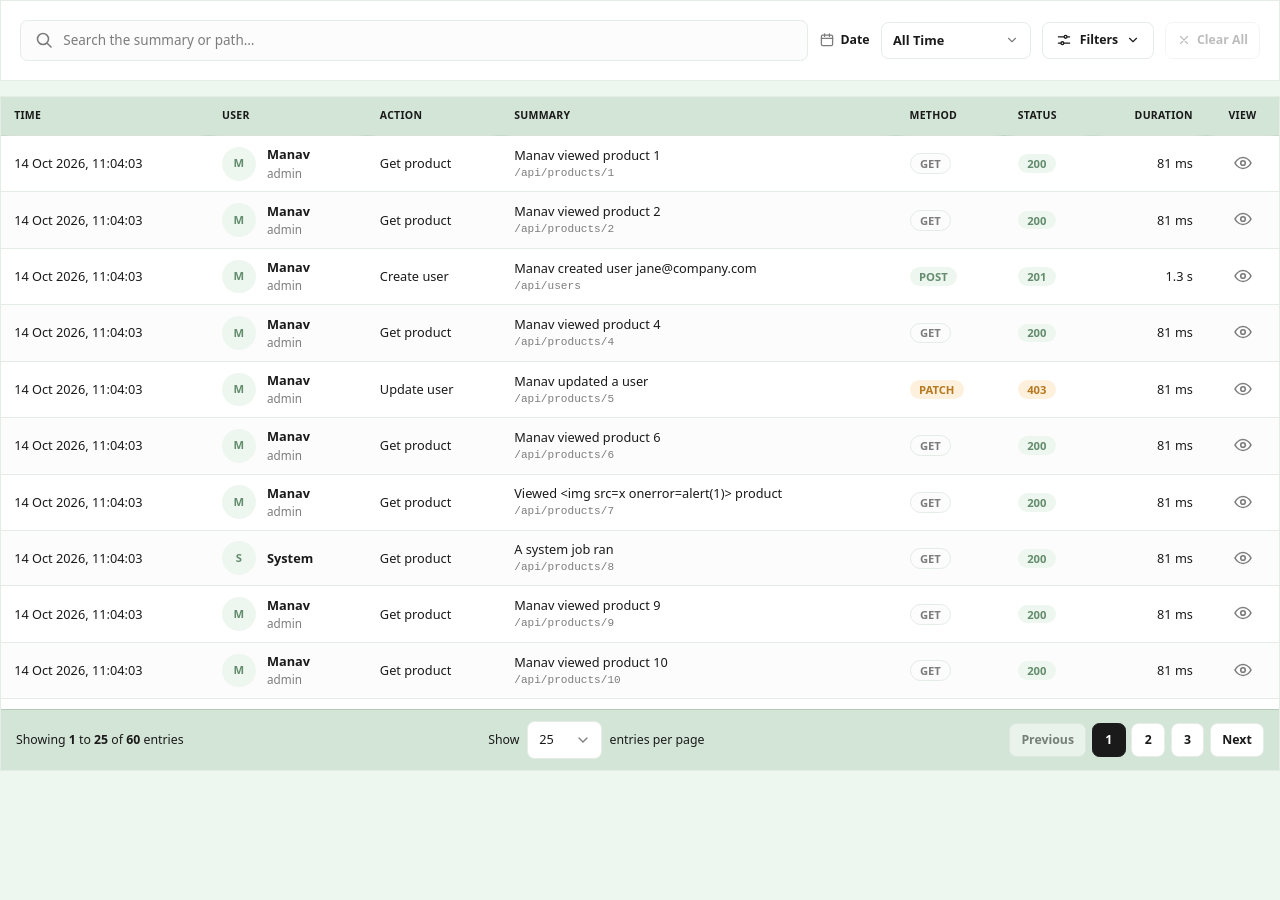
ActivityPage › list › pages with the shared pagination, and re-visits pages from the cache
Expected: the text "Manav viewed product 1" is shown, [514,146,660,164]
Click the button named "Page 2" at {"x": 1148, "y": 740}, box [1131,723,1165,757]
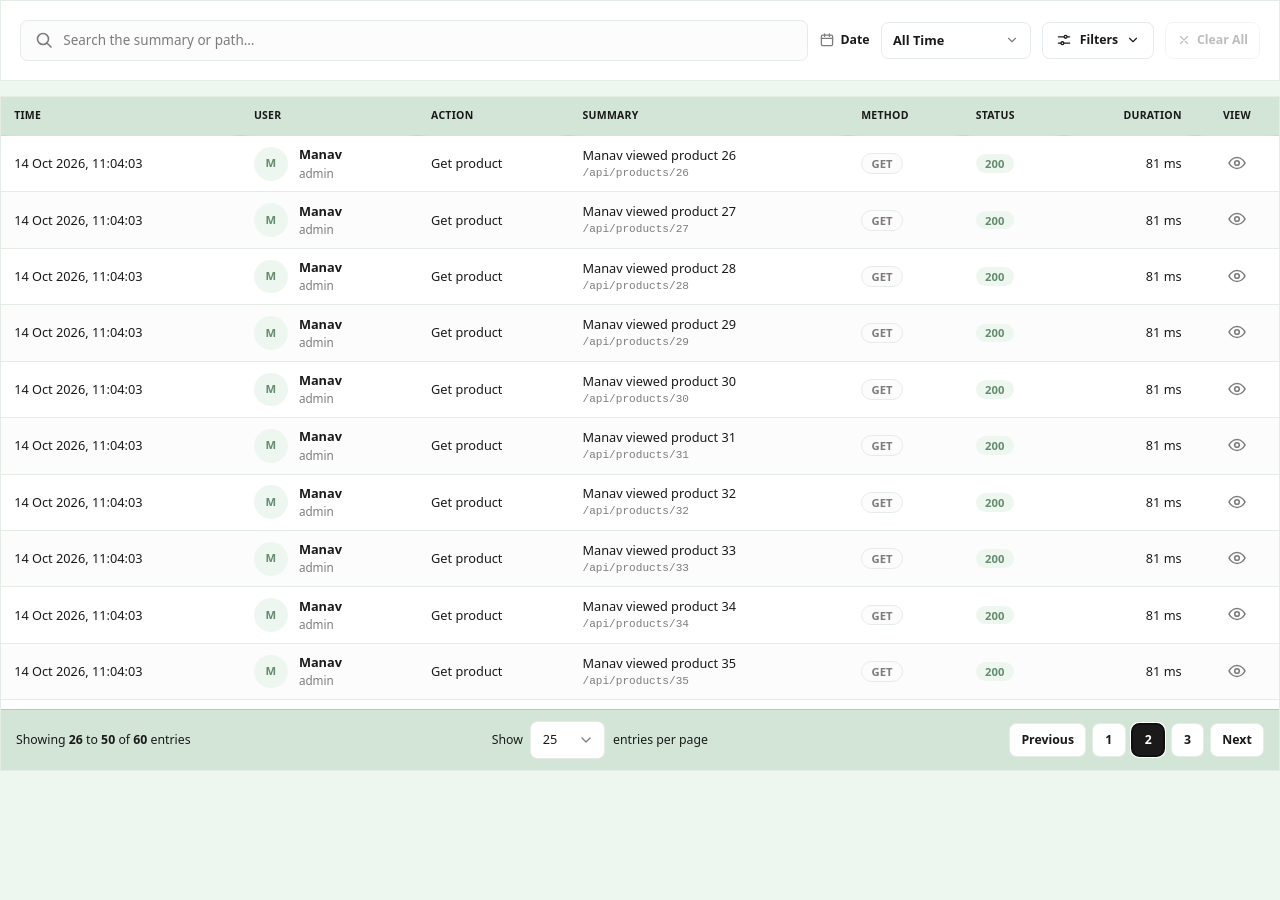
Now the text "Manav viewed product 26" is shown, box [582,146,736,164]
Now the text "Showing 26 to 50 of 60 entries" is shown, box [16,730,191,749]
// Back to page 1: served from the cache with no new request.
Click the button named "Page 1" at {"x": 1109, "y": 740}, box [1092,723,1126,757]
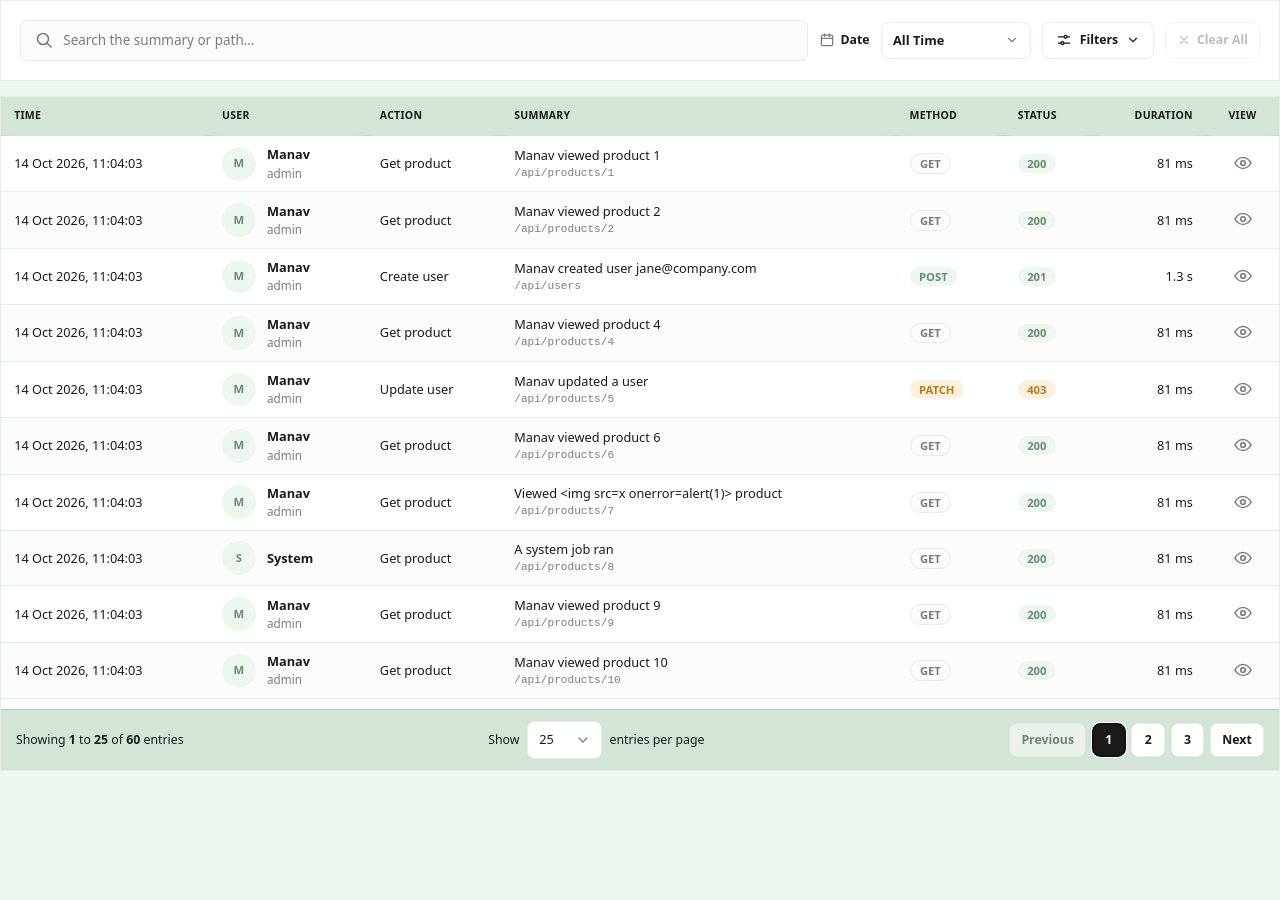
Now the text "Manav viewed product 1" is shown, box [514,146,660,164]
